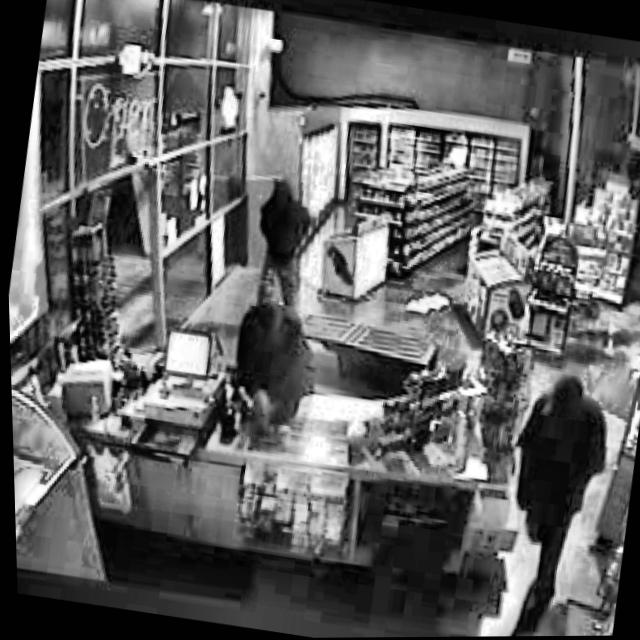burglary: (481, 363, 625, 623), (207, 291, 332, 450), (237, 171, 322, 303)
